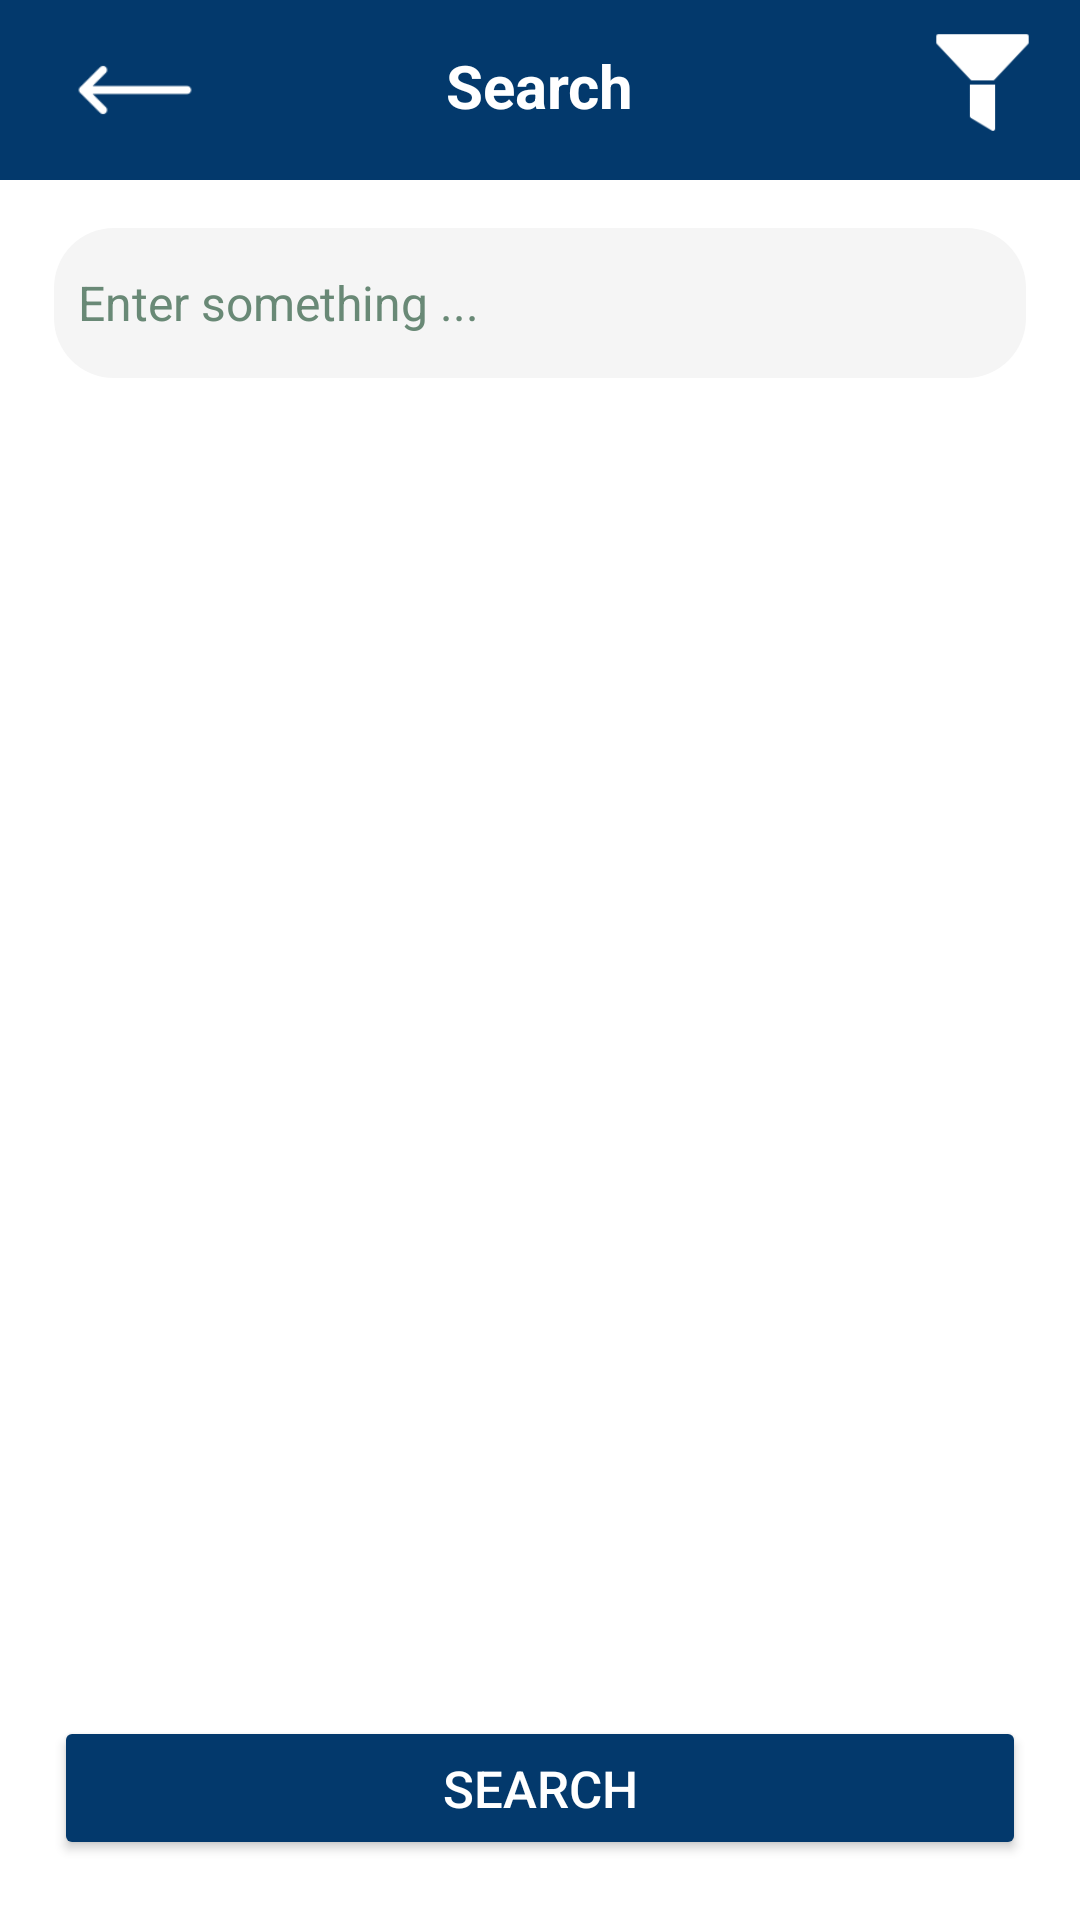

Named icons in this screenshot (1080 × 1920) and their bounding boxes, (x1, y1, x2, y2):
back arrow: (78, 66, 192, 114)
search filter: (936, 34, 1029, 131)
